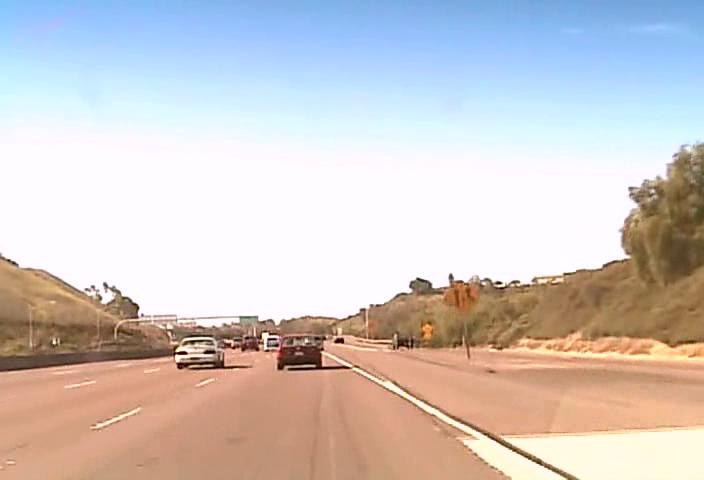addedLane: (444, 280, 481, 313)
